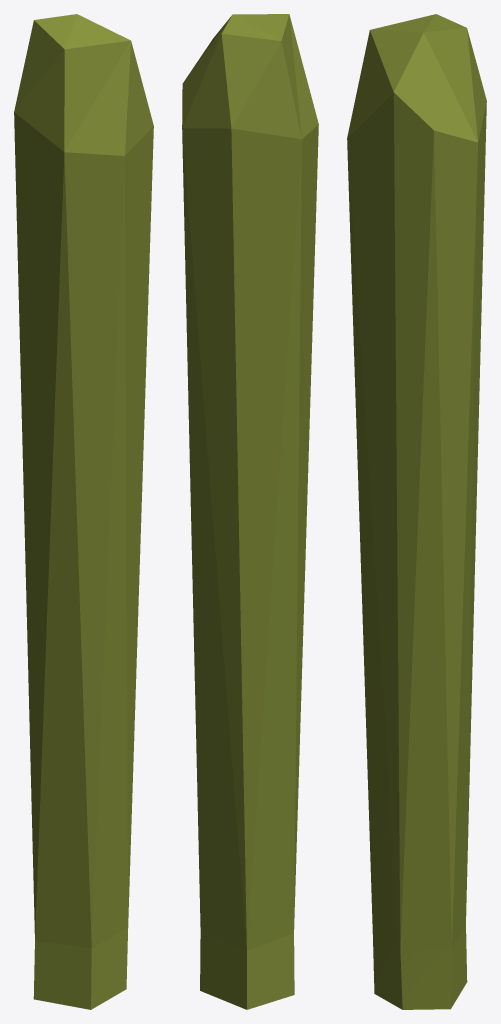
Rendered from ea_swamp_grass_01a_pre__12__lev1.glb.
3 views of the same model, side by side, from view 1: azimuth 90°, elevation 25°; view 2: azimuth 150°, elevation 25°; view 3: azimuth 270°, elevation 25° (orthographic).
Parts seen in each view (by area): view 1: ea_swamp_grass_01a_pre__12__lev1; view 2: ea_swamp_grass_01a_pre__12__lev1; view 3: ea_swamp_grass_01a_pre__12__lev1.
Part boxes in pixels (left/top/right/bottom): ea_swamp_grass_01a_pre__12__lev1: left=14, top=14, right=153, bottom=1009; ea_swamp_grass_01a_pre__12__lev1: left=182, top=14, right=318, bottom=1009; ea_swamp_grass_01a_pre__12__lev1: left=347, top=14, right=486, bottom=1009.
Bounding box in the file's own units: 0.1805 × 1.39 × 0.1817.
Materials: 1 (1 with a texture image).
